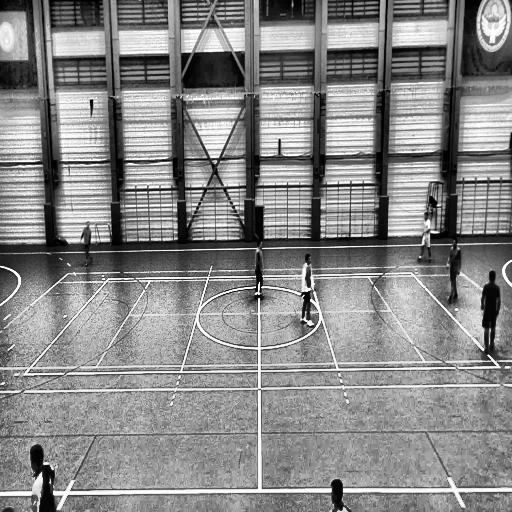player: (481, 270, 500, 352), (299, 252, 316, 327), (415, 207, 433, 261), (446, 237, 460, 300), (254, 236, 264, 298), (80, 221, 92, 267)
